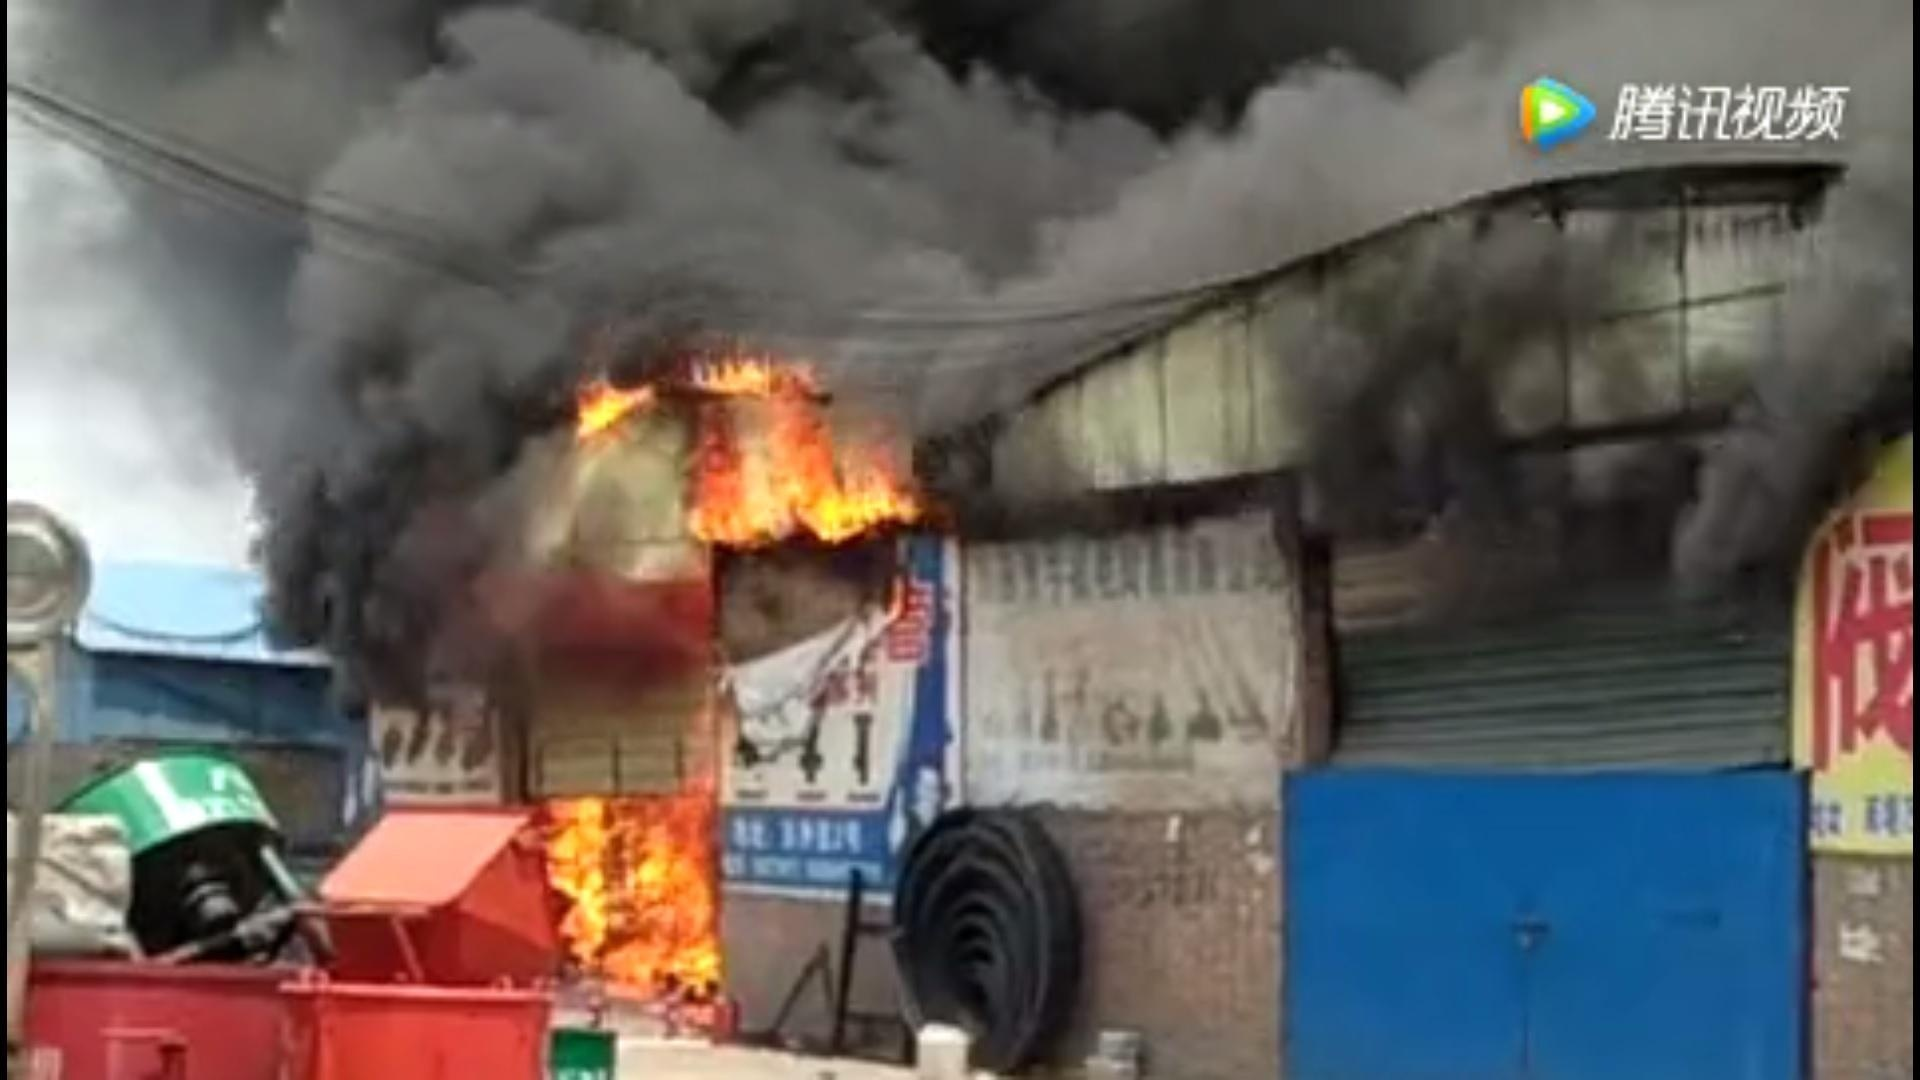fire: (575, 345, 924, 549), (545, 779, 731, 1002)
